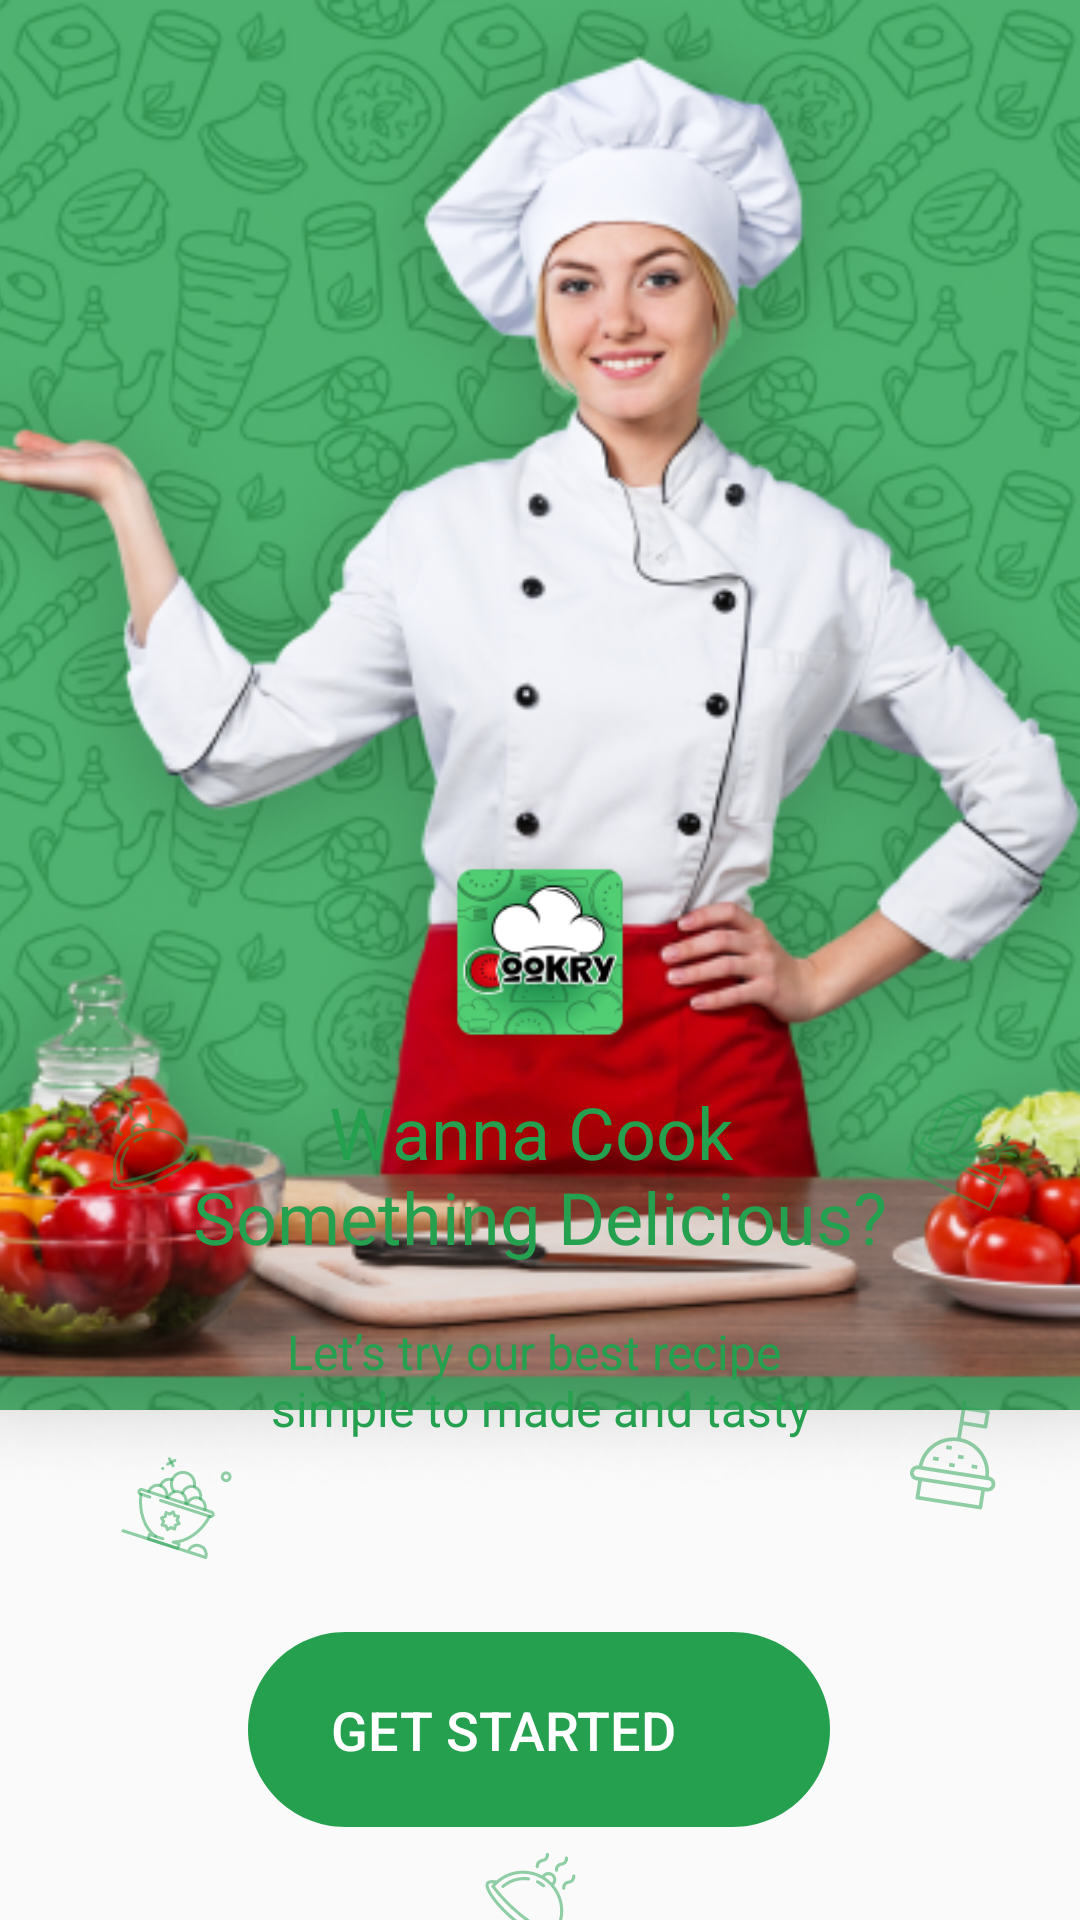

Where icons sit on this 1080 × 1920 app screen, as bbox=(x1, y1, x2, y2):
food: bbox=(121, 1457, 232, 1559)
